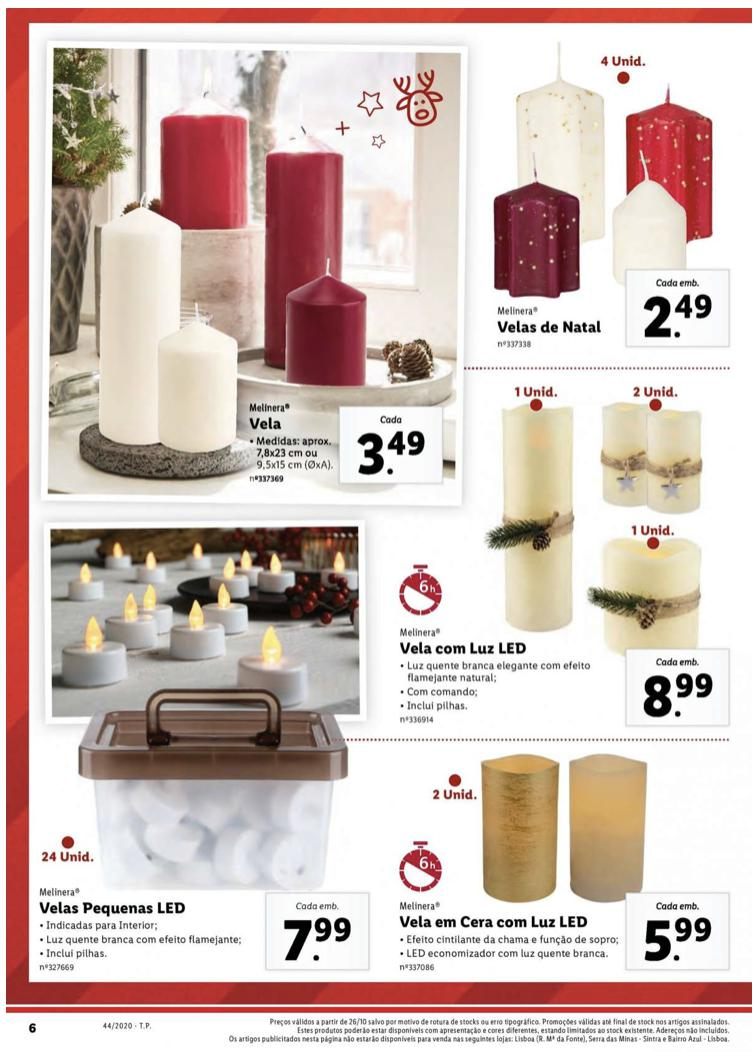name: (393, 908, 598, 932), (36, 897, 189, 921), (396, 638, 532, 662), (494, 314, 609, 338), (245, 413, 288, 434)
price: (354, 409, 436, 480), (639, 912, 720, 973), (639, 286, 722, 344), (639, 666, 716, 725), (281, 912, 354, 962)
product: (62, 58, 453, 491), (37, 519, 379, 971), (393, 377, 741, 727), (474, 30, 746, 365), (387, 754, 735, 977)
